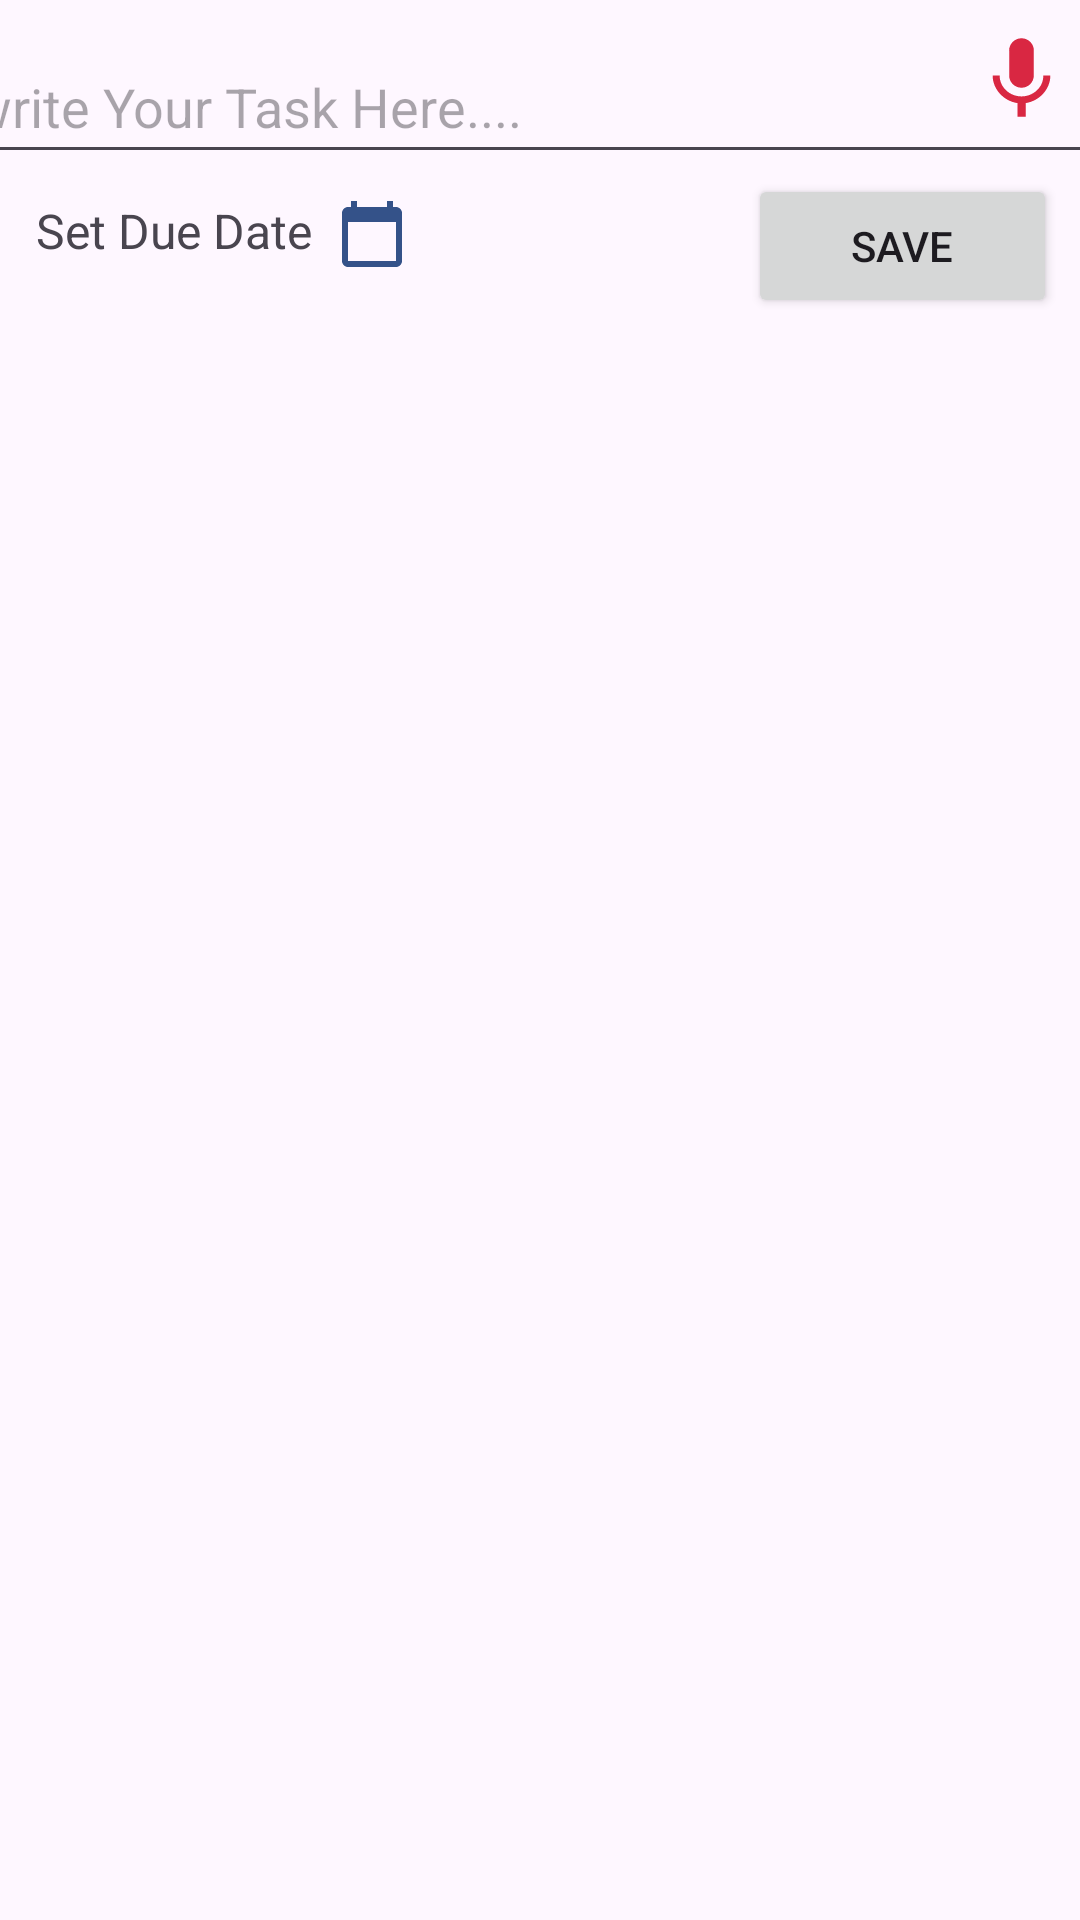

Icons on this 1080*1920 Android screen, each with its box as (x1, y1, x2, y2):
mic: (992, 38, 1051, 117)
